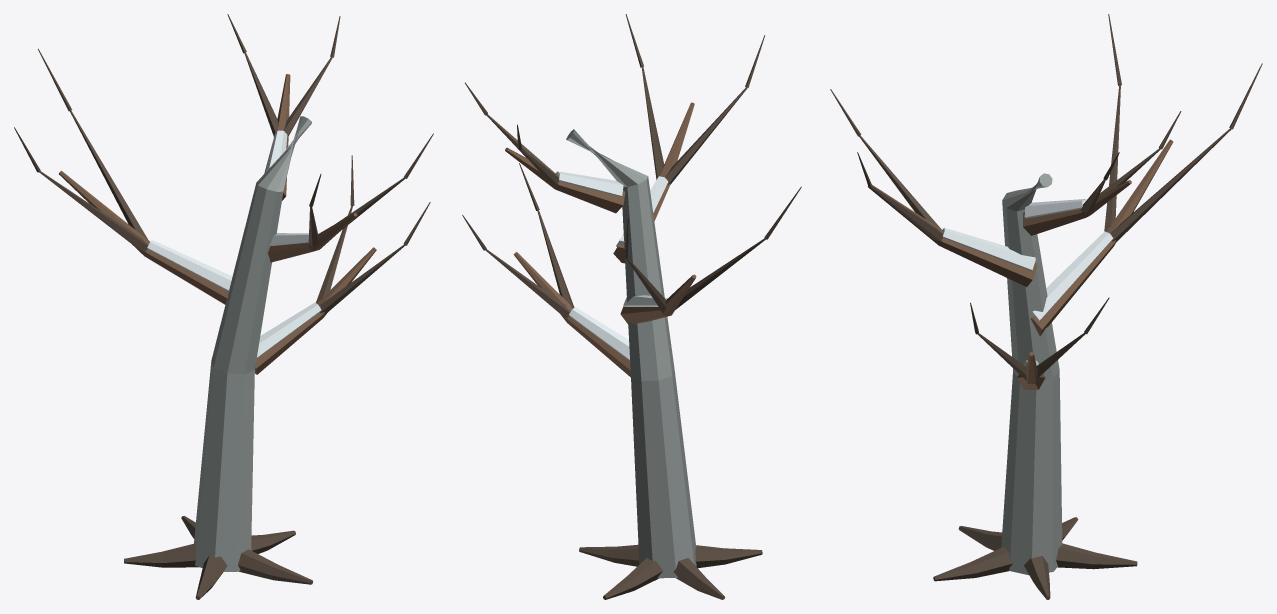
Rendered from TREE_18_BrokenDead.glb.
3 views of the same model, side by side, from view 1: azimuth 30°, elevation 25°; view 2: azimuth 150°, elevation 25°; view 3: azimuth 270°, elevation 25° (orthographic). The views are drawn at different scales.
Visible parts, largest first — view 1: TREE_18_BrokenDead; view 2: TREE_18_BrokenDead; view 3: TREE_18_BrokenDead.
Part boxes in pixels (left/top/right/bottom): TREE_18_BrokenDead: left=14, top=14, right=433, bottom=599; TREE_18_BrokenDead: left=462, top=14, right=801, bottom=599; TREE_18_BrokenDead: left=830, top=14, right=1262, bottom=599.
Size of the model in its own units: 3.44 by 4.5 by 3.59.
